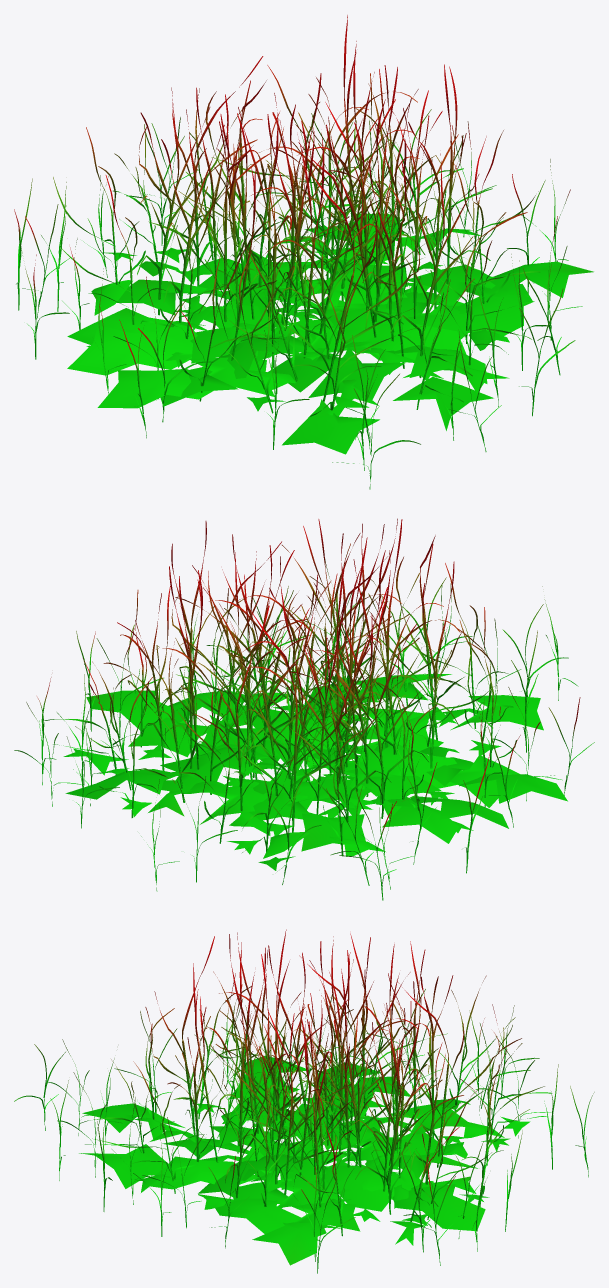
File: Kikuyu Grass_LOD0_Var1_wiljearqx.fbx
3 renders of one model, top to bottom at view 1: azimuth 30°, elevation 25°; view 2: azimuth 150°, elevation 25°; view 3: azimuth 270°, elevation 25°, orthographic. The views are drawn at different scales.
Visible parts, largest first — view 1: _0xyl_Var1_LOD0; view 2: _0xyl_Var1_LOD0; view 3: _0xyl_Var1_LOD0.
Part boxes in pixels (<box>): _0xyl_Var1_LOD0: <box>14,15,593,489</box>; _0xyl_Var1_LOD0: <box>14,518,594,900</box>; _0xyl_Var1_LOD0: <box>14,929,594,1273</box>.
Size of the model in its own units: 107 by 53.19 by 126.
